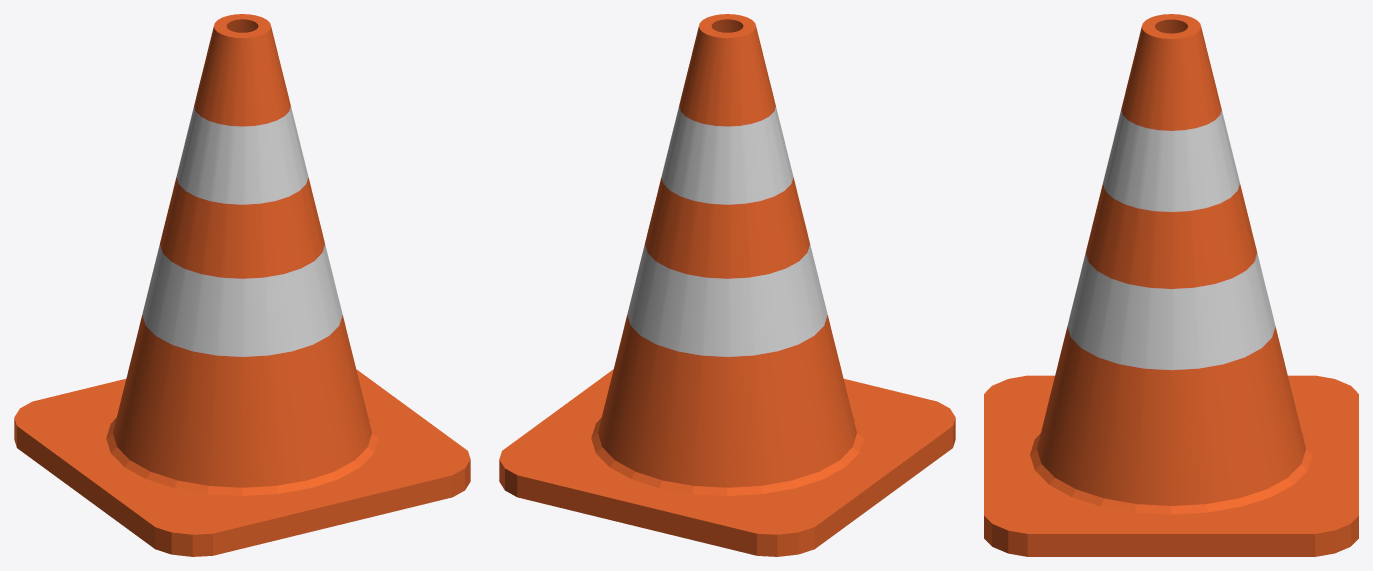
The model's file is OrangeCone.FBX.
The picture shows the model from 3 angles, left to right: view 1: azimuth 30°, elevation 25°; view 2: azimuth 150°, elevation 25°; view 3: azimuth 270°, elevation 25°; orthographic projection. The views are drawn at different scales.
Visible parts, largest first — view 1: OrangeCone; view 2: OrangeCone; view 3: OrangeCone.
Part boxes in pixels (bbox=[...]): OrangeCone: bbox=[14, 14, 470, 556]; OrangeCone: bbox=[499, 14, 955, 556]; OrangeCone: bbox=[984, 14, 1358, 556].
Bounding box in the file's own units: 56 × 56 × 74.35.
